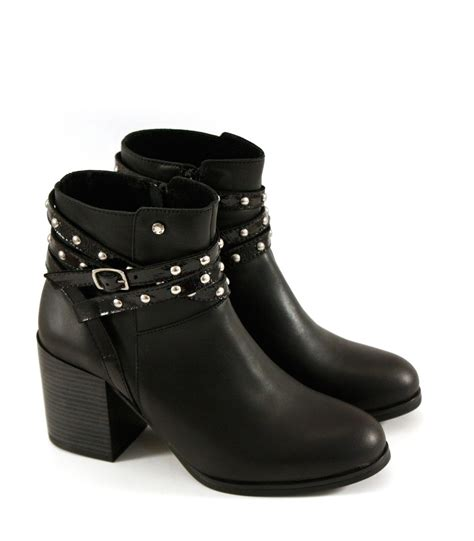cuero: (38, 128, 421, 496)
